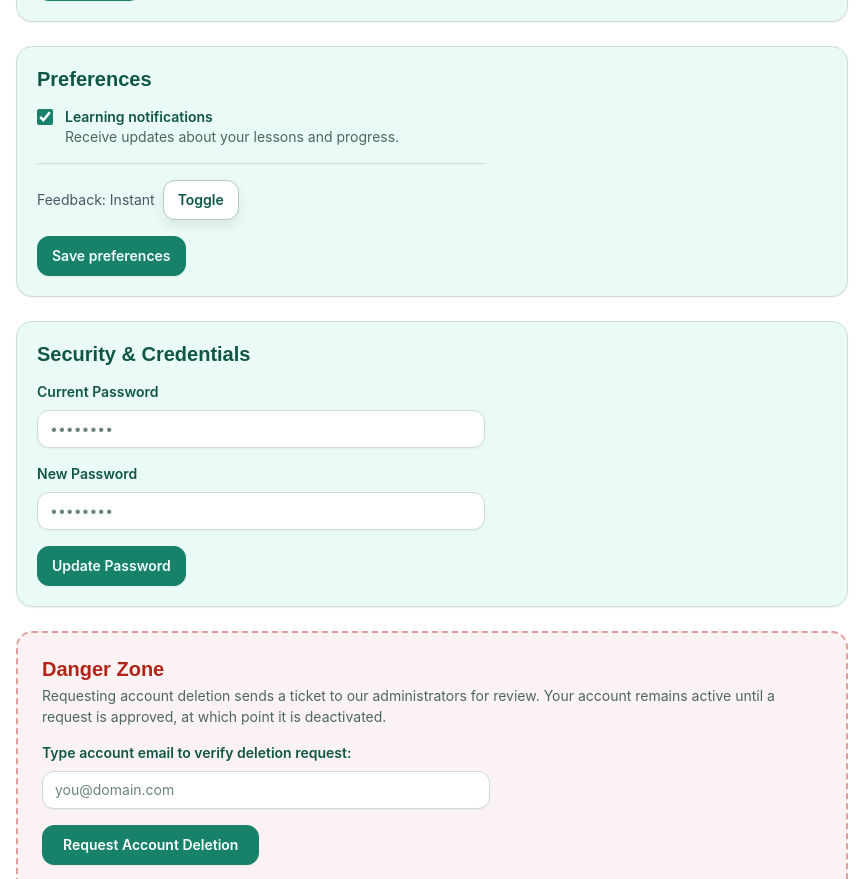
Test: ProfilePage › submits the current password and refreshes the current session
(page scrolled)
Type "CurrentPass1!" into the password field labelled "Current Password" at {"x": 261, "y": 429}, box [37,410,485,448]
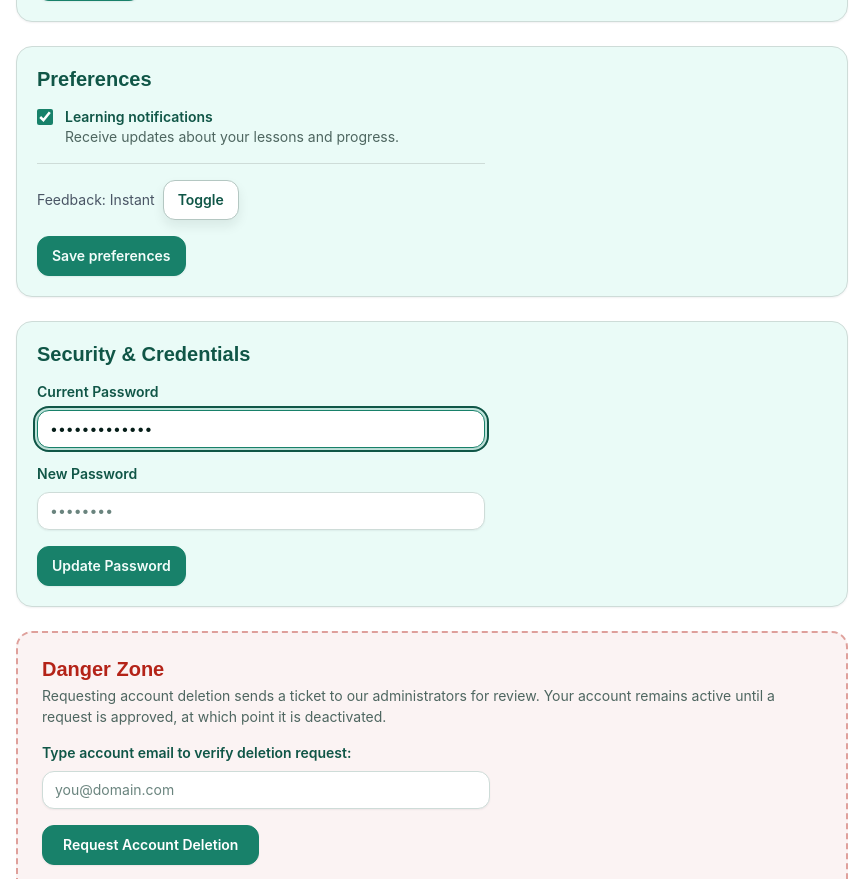
Type "NewPass2!" into the password field labelled "New Password" at {"x": 261, "y": 511}, box [37,492,485,530]
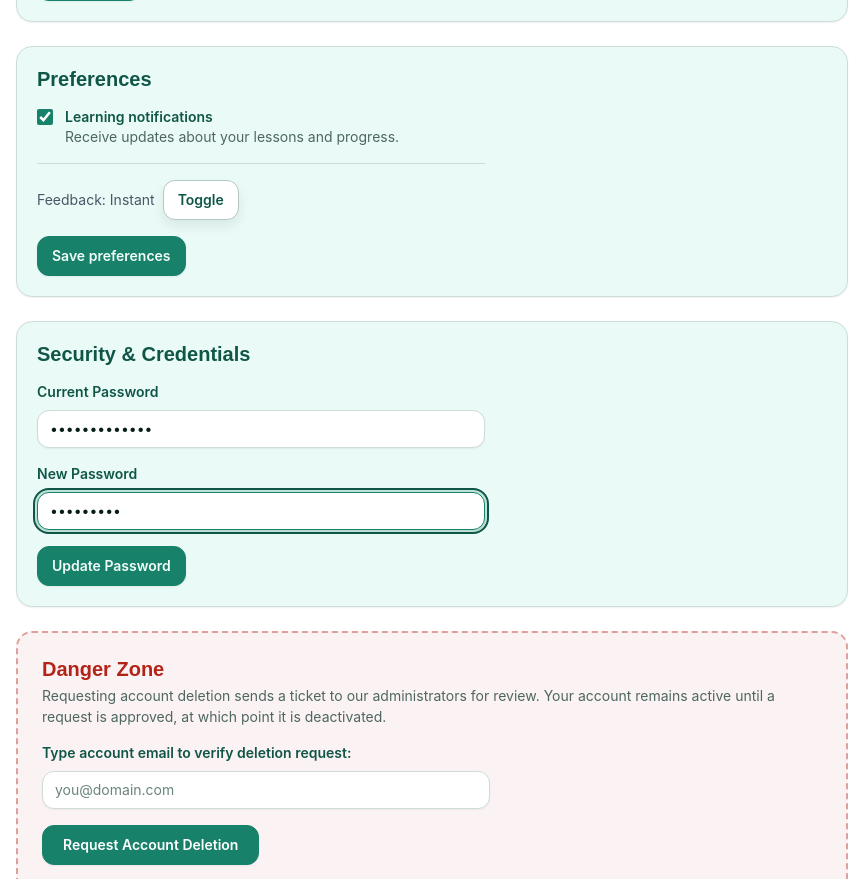
Click the button "Update Password" at {"x": 111, "y": 566}, box [37,546,186,586]
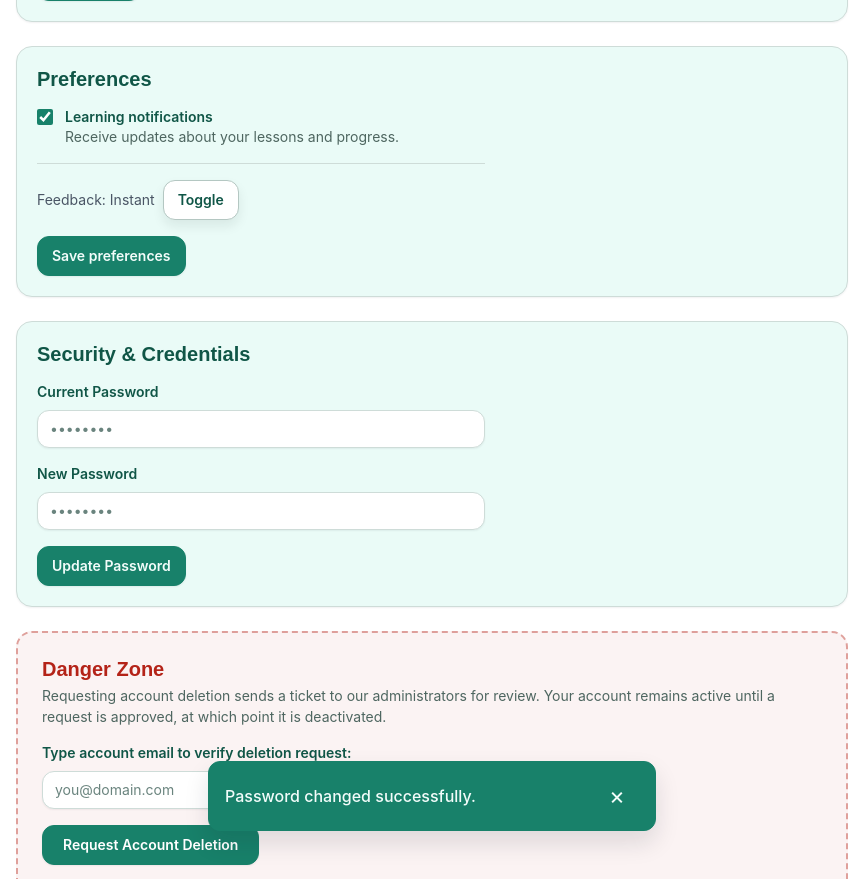
Result: the message reads "Password changed successfully." at [225,786,476,806]
Result: the password field labelled "Current Password" is empty at [37,410,485,448]
Result: the password field labelled "New Password" is empty at [37,492,485,530]
